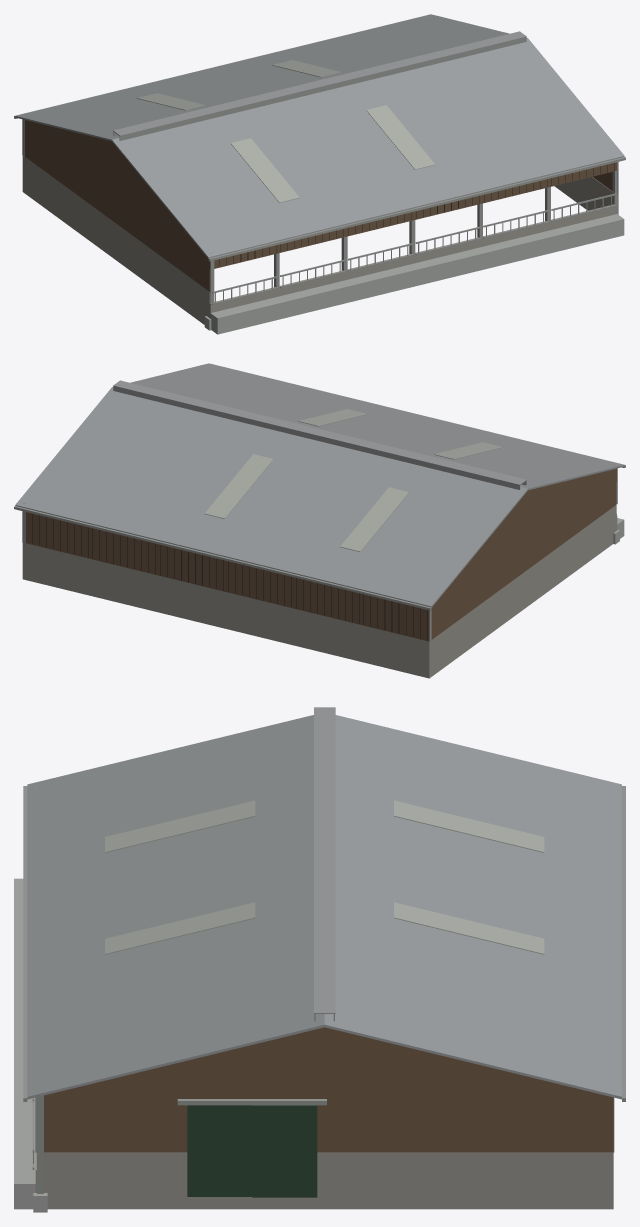
Rendered from context.farm.cattle_shed.glb.
The picture shows the model from 3 angles, top to bottom: view 1: azimuth 30°, elevation 25°; view 2: azimuth 150°, elevation 25°; view 3: azimuth 270°, elevation 25°; orthographic projection. The views are drawn at different scales.
Visible parts, largest first — view 1: main__clad_999, main__timber_754, main__concrete_999, main__concrete_aaa, main__steel_999, main__lens_aaa, main__paint_221; view 2: main__clad_999, main__timber_754, main__concrete_999, main__steel_999, main__lens_aaa, main__paint_221; view 3: main__clad_999, main__timber_754, main__concrete_999, main__clad_343, main__lens_aaa, main__steel_999, main__concrete_aaa.
Boxes of the visible parts, left/top/right/bottom form: main__clad_999: left=15, top=14, right=624, bottom=258; main__timber_754: left=24, top=120, right=617, bottom=291; main__concrete_999: left=22, top=156, right=617, bottom=324; main__concrete_aaa: left=204, top=214, right=624, bottom=334; main__steel_999: left=14, top=14, right=625, bottom=304; main__lens_aaa: left=136, top=60, right=435, bottom=202; main__paint_221: left=219, top=163, right=614, bottom=266; main__clad_999: left=15, top=363, right=624, bottom=607; main__timber_754: left=26, top=468, right=617, bottom=641; main__concrete_999: left=22, top=505, right=617, bottom=678; main__steel_999: left=14, top=363, right=625, bottom=641; main__lens_aaa: left=204, top=409, right=503, bottom=551; main__paint_221: left=32, top=514, right=427, bottom=639; main__clad_999: left=27, top=707, right=621, bottom=1099; main__timber_754: left=44, top=1027, right=613, bottom=1152; main__concrete_999: left=35, top=1152, right=613, bottom=1209; main__clad_343: left=187, top=1105, right=317, bottom=1197; main__lens_aaa: left=105, top=800, right=544, bottom=954; main__steel_999: left=23, top=785, right=625, bottom=1193; main__concrete_aaa: left=14, top=878, right=47, bottom=1212.
Bounding box in the file's own units: 30.7 × 9.01 × 25.41.
